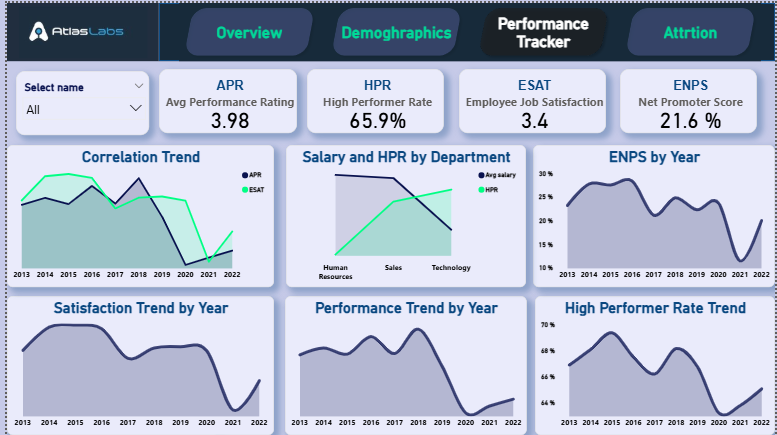

This screenshot's page, from the dashboard's own definition file:
{"tool":"powerbi","page":{"name":"Performance Tracker","canvas":[1280,720],"ordinal":2},"visuals":[{"type":"image","box":[0,0,253.3,96.7],"z":1000},{"type":"actionButton","box":[568.3,10,175,76.7],"z":2000},{"type":"actionButton","box":[1048.2,38.6,176.4,75.6],"z":3000},{"type":"actionButton","box":[286.7,10,176.7,76.7],"z":4000},{"type":"slicer","fields":{"Values":["DimEmployee.Full name"]},"box":[15,113.3,221.7,106.7],"z":5000},{"type":"card","title":"APR","fields":{"Values":["___MEASURES.APR"]},"box":[253.3,110,230,106.7],"z":6000},{"type":"card","title":"ESAT","fields":{"Values":["___MEASURES.ESAT"]},"box":[753.3,110,245,106.7],"z":7000},{"type":"card","title":"HPR","fields":{"Values":["___MEASURES.HPR"]},"box":[500,110,228.3,106.7],"z":8000},{"type":"card","title":"ENPS","fields":{"Values":["___MEASURES.ENPS"]},"box":[1021.7,110,228.3,106.7],"z":9000},{"type":"donutChart","title":"Low vs High Performance","fields":{"Y":["___MEASURES.Total employee"],"Category":["FactPerformanceRating.Rating category"]},"box":[0,526.7,358.3,193.3],"z":10000},{"type":"lineChart","title":"Satisfaction Trend by Year","fields":{"Category":["DimDate.Date.Variation.Date Hierarchy.Year"],"Y":["___MEASURES.ESAT"]},"box":[0,488.3,445,231.7],"z":11000},{"type":"lineChart","title":"Performance Trend by Year","fields":{"Y":["___MEASURES.APR"],"Category":["DimDate.Date.Variation.Date Hierarchy.Year"]},"box":[463.3,488.3,403.3,231.7],"z":12000},{"type":"lineChart","title":"Correlation Trend","fields":{"Category":["DimDate.Date.Variation.Date Hierarchy.Year"],"Y":["___MEASURES.APR"],"Y2":["___MEASURES.ESAT"]},"box":[0,236.7,445,236.7],"z":13000},{"type":"lineChart","title":"High Performer Rate Trend","fields":{"Category":["DimDate.Date.Variation.Date Hierarchy.Year"],"Y":["___MEASURES.HPR"]},"box":[880,488.3,400,231.7],"z":14000},{"type":"lineChart","fields":{"Y":["___MEASURES.ENPS"],"Category":["DimDate.Date.Variation.Date Hierarchy.Year"]},"box":[876.7,236.7,403.3,236.7],"z":15000},{"type":"shape","box":[253.3,0,1026.7,96.7],"z":15500},{"type":"lineChart","title":" Salary and HPR by Department","fields":{"Category":["DimEmployee.Department"],"Y2":["___MEASURES.HPR"],"Y":["___MEASURES.Avg salary"]},"box":[465,236.7,400,236.7],"z":16000},{"type":"pageNavigator","box":[286.7,0,970,96.7],"z":16500}]}

Visuals, with their boxes in screenshot pixels (x1, y1, x2, y2), scaled from the page's 1280x720 canvas onto the 777x435 screenshot:
image: 0,0,154,58
actionButton: 345,6,451,52
actionButton: 636,23,743,69
actionButton: 174,6,281,52
slicer - DimEmployee.Full name: 9,68,144,133
"APR" card: 154,66,293,131
"ESAT" card: 457,66,606,131
"HPR" card: 304,66,442,131
"ENPS" card: 620,66,759,131
"Low vs High Performance" donutChart: 0,318,217,434
"Satisfaction Trend by Year" lineChart: 0,295,270,434
"Performance Trend by Year" lineChart: 281,295,526,434
"Correlation Trend" lineChart: 0,143,270,286
"High Performer Rate Trend" lineChart: 534,295,776,434
lineChart - ___MEASURES.ENPS x DimDate.Date.Variation.Date Hierarchy.Year: 532,143,776,286
shape: 154,0,776,58
" Salary and HPR by Department" lineChart: 282,143,525,286
pageNavigator: 174,0,763,58
